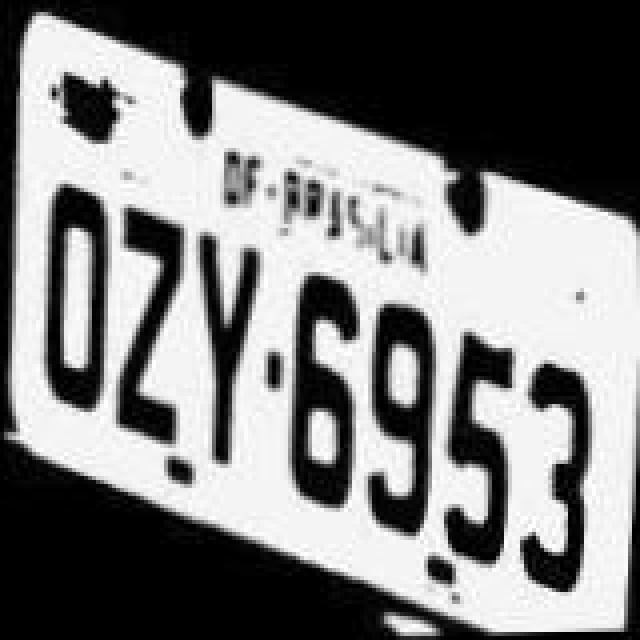3: (508, 362, 596, 598)
5: (432, 332, 520, 572)
6: (278, 274, 370, 514)
9: (358, 300, 442, 540)
O: (34, 184, 114, 416)
Y: (188, 234, 272, 478)
Z: (110, 200, 190, 456)
